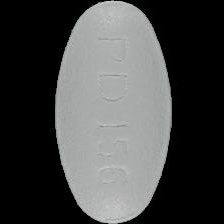54868-3946: (0, 0, 224, 224)
